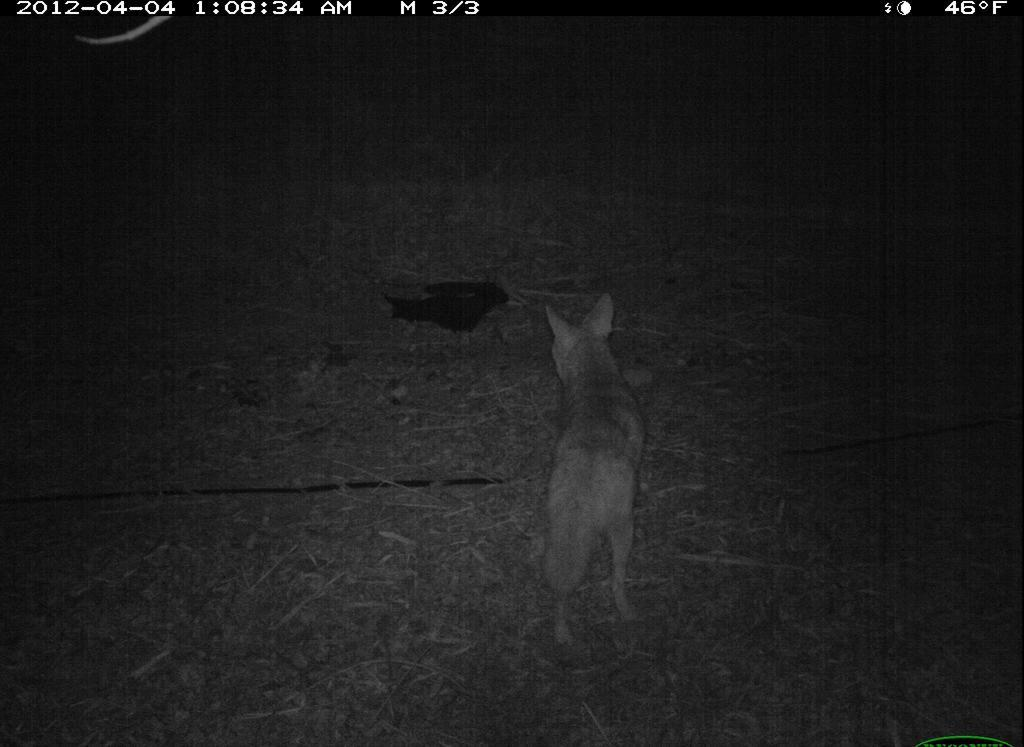coyote: (525, 283, 658, 652)
